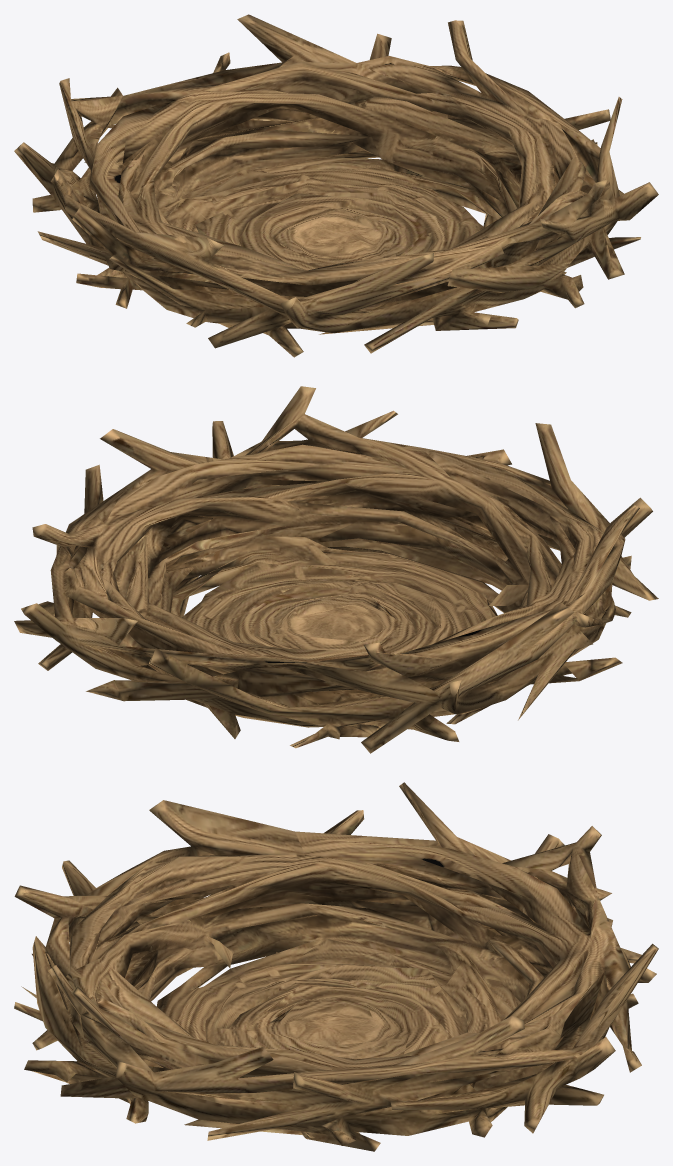
Rendered from Meshy_AI_Twig_Nest_0619052931_texture.fbx.
The picture shows the model from 3 angles, top to bottom: view 1: azimuth 30°, elevation 25°; view 2: azimuth 150°, elevation 25°; view 3: azimuth 270°, elevation 25°; orthographic projection. The views are drawn at different scales.
Parts seen in each view (by area): view 1: Mesh1.0; view 2: Mesh1.0; view 3: Mesh1.0.
Boxes of the visible parts, x1,y1,x2,y2 form: Mesh1.0: (14,14,658,357); Mesh1.0: (14,386,658,753); Mesh1.0: (14,782,658,1151).
Size of the model in its own units: 190 by 40.6 by 183.
1 material, 1 textured.
